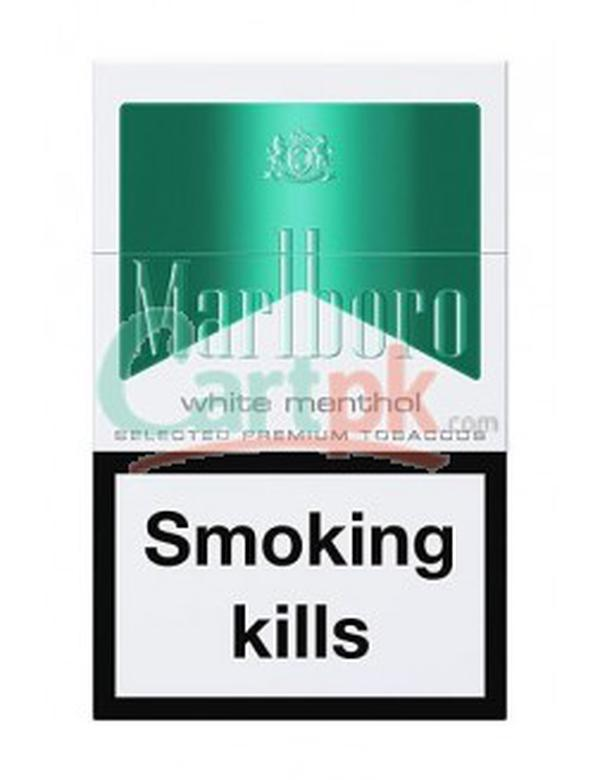marlboro_mentol: (94, 62, 507, 721)
